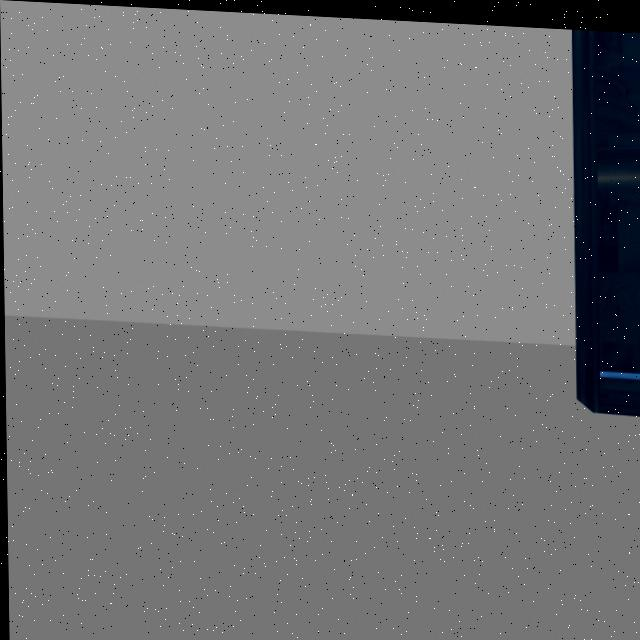shelf: (550, 22, 640, 423)
